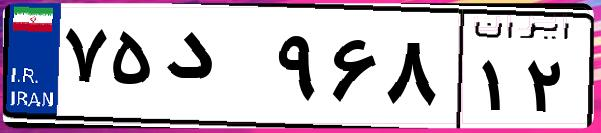1: (475, 38, 525, 113)
2: (525, 38, 570, 115)
5: (110, 28, 158, 98)
6: (330, 28, 385, 110)
7: (57, 26, 110, 100)
8: (385, 28, 445, 110)
9: (270, 28, 330, 110)
د: (158, 20, 270, 120)
